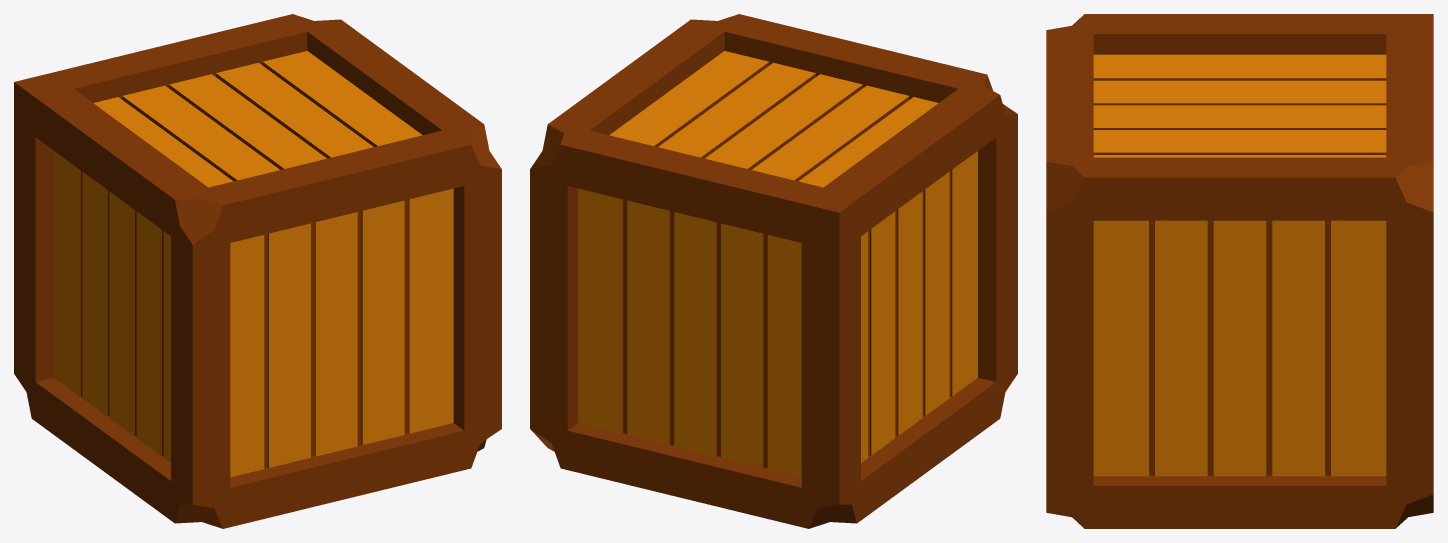
File: woodbox_003.glb
The picture shows the model from 3 angles, left to right: view 1: azimuth 30°, elevation 25°; view 2: azimuth 150°, elevation 25°; view 3: azimuth 270°, elevation 25°; orthographic projection. The views are drawn at different scales.
Visible parts, largest first — view 1: woodbox_003; view 2: woodbox_003; view 3: woodbox_003.
Part boxes in pixels (x1,y1,x2,y2): woodbox_003: (14, 14, 501, 528); woodbox_003: (530, 14, 1017, 528); woodbox_003: (1046, 14, 1433, 528).
Size of the model in its own units: 0.249 by 0.249 by 0.249.
